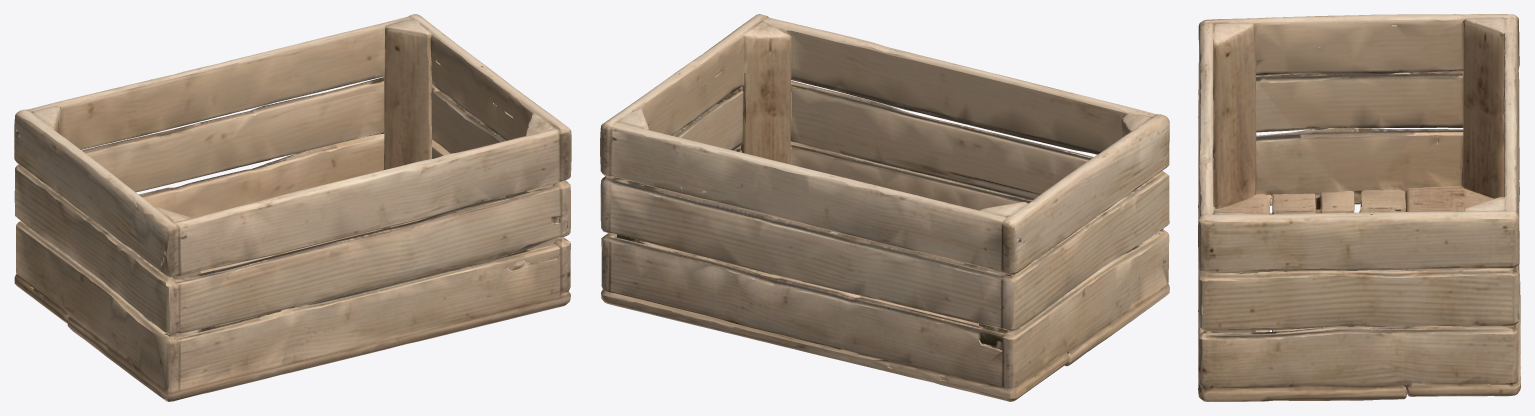
File: wood-crate.glb
3 renders of one model, left to right at view 1: azimuth 30°, elevation 25°; view 2: azimuth 150°, elevation 25°; view 3: azimuth 270°, elevation 25°, orthographic. The views are drawn at different scales.
Visible parts, largest first — view 1: geometry_0; view 2: geometry_0; view 3: geometry_0.
Part boxes in pixels (left/top/right/bottom): geometry_0: left=14, top=14, right=571, bottom=401; geometry_0: left=600, top=14, right=1169, bottom=401; geometry_0: left=1198, top=14, right=1520, bottom=401.
Size of the model in its own units: 0.4 by 0.1762 by 0.2657.
Materials: 1 (1 with a texture image).
